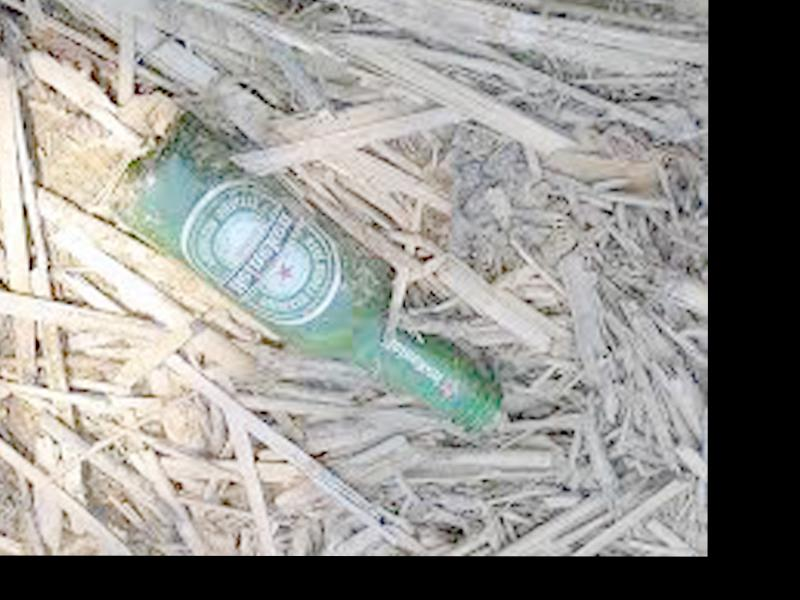Beer: (112, 116, 507, 429)
